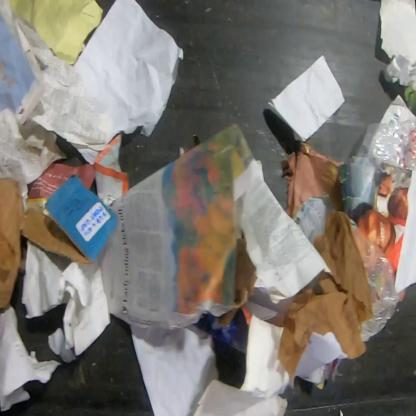cardboard: (0, 173, 119, 312)
soft_plastic: (349, 217, 399, 344), (355, 116, 415, 172)
